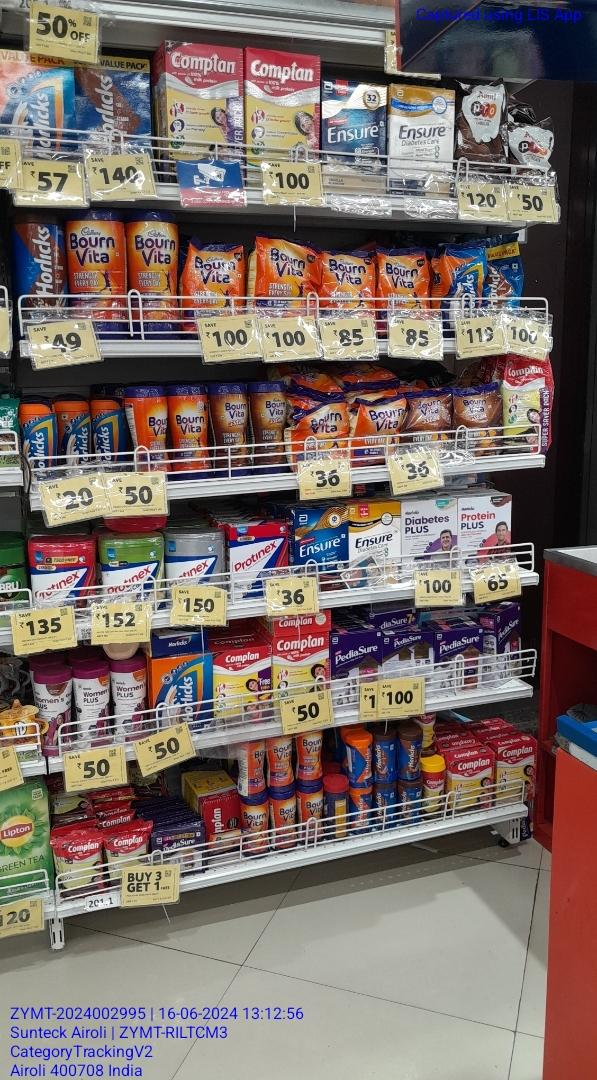HORLICK_CLASSIC_MALT_500_G_JAR: (151, 659, 213, 721), (60, 404, 89, 473), (93, 403, 121, 469)
PEDIASURE_CHOCOLATE_500_G_PACK: (329, 633, 383, 688), (436, 633, 482, 692)
PROTINEX_CHOCOLATE_400_G_JAR: (33, 537, 94, 610)
PROTINEX_ORIGINAL_400_G_JAR: (169, 530, 226, 590)
